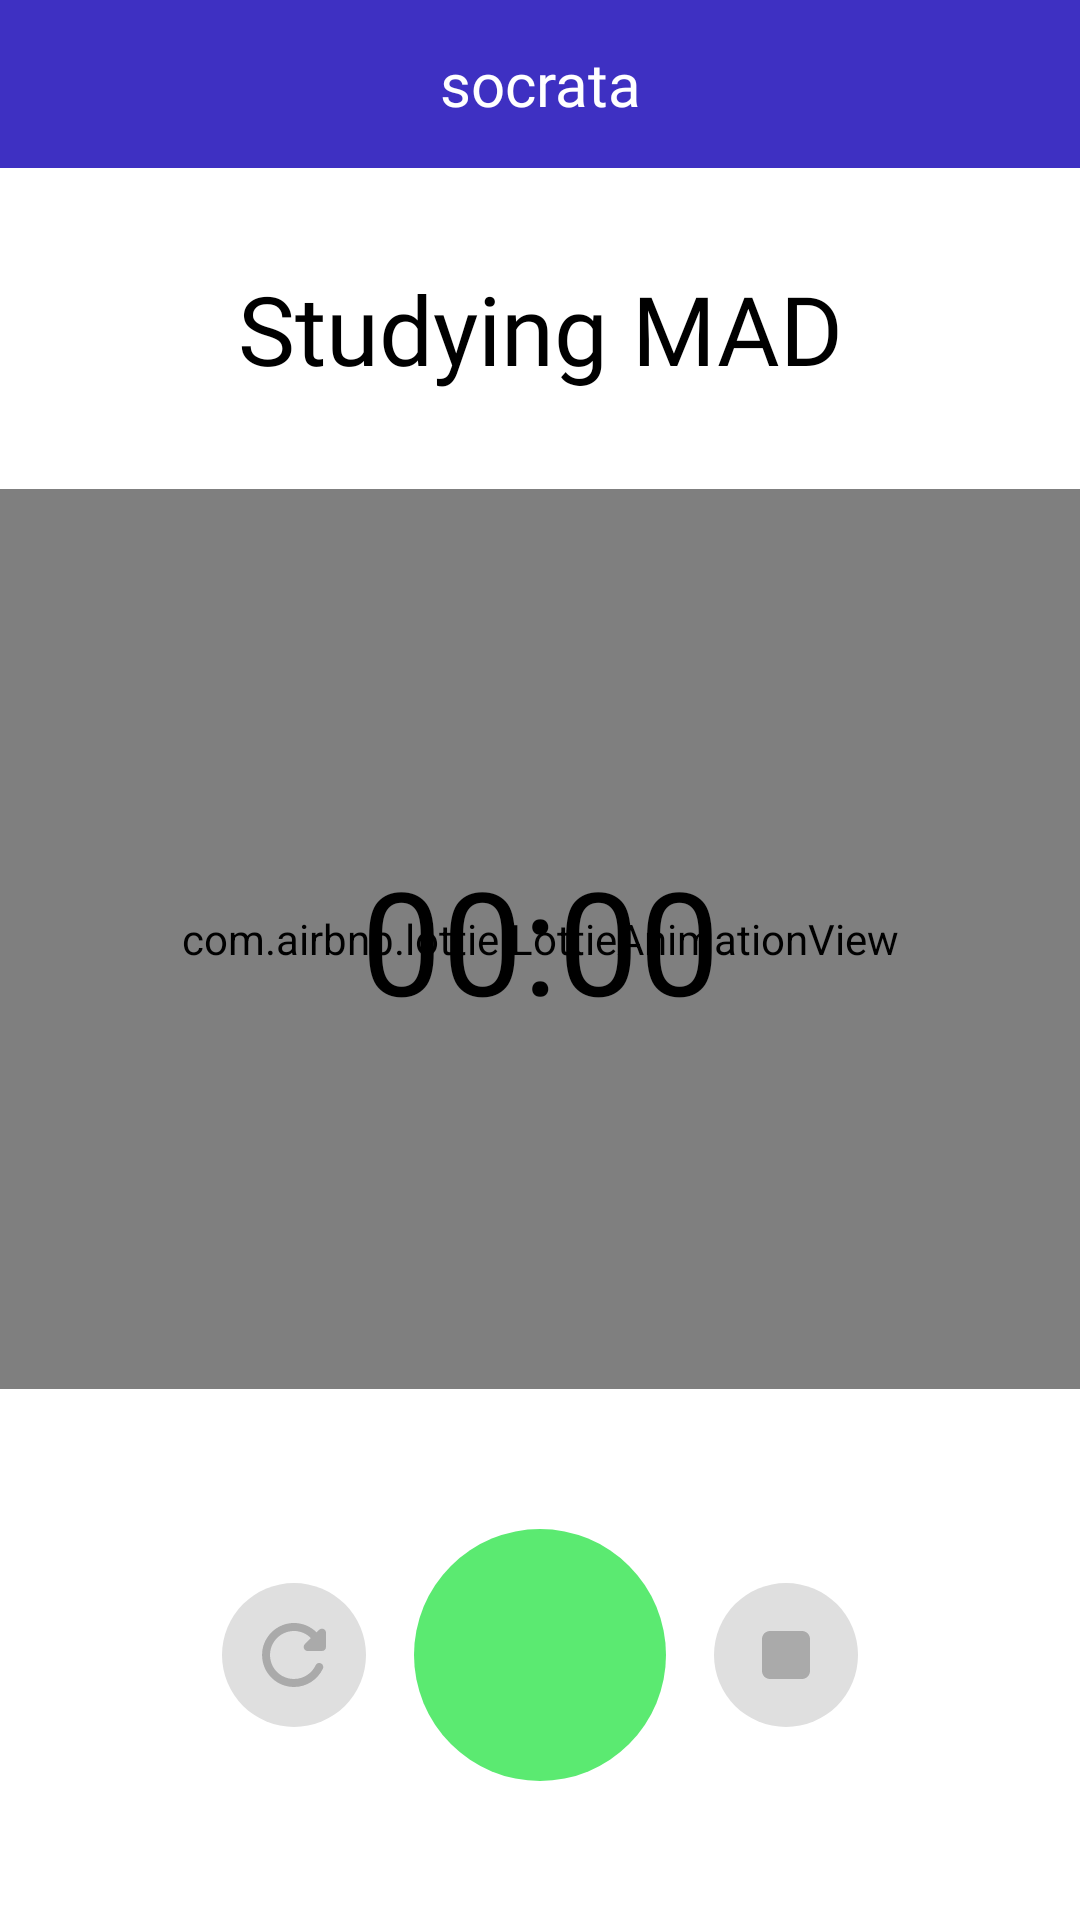

Icons on this 1080px×1920px Android screen, each with the point to tap as (x=x, y=y):
restart: (x=294, y=1655)
stop: (x=786, y=1655)
